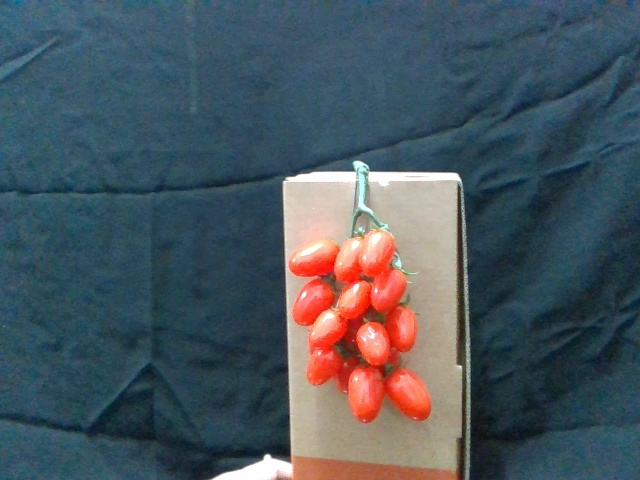tomato: (382, 368, 433, 423), (349, 365, 385, 426), (288, 240, 341, 279), (356, 320, 396, 371), (292, 280, 334, 324), (337, 279, 376, 324), (372, 267, 408, 313), (362, 230, 397, 277), (385, 305, 419, 353), (307, 350, 346, 389), (312, 310, 349, 351), (335, 236, 366, 284)
